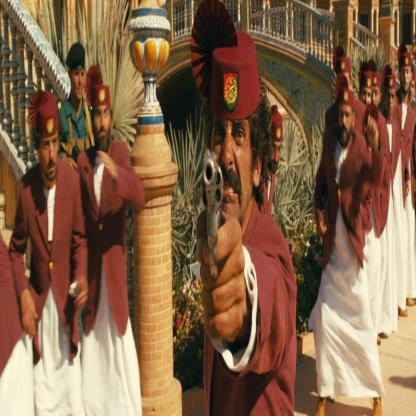gun: (200, 123, 228, 278)
